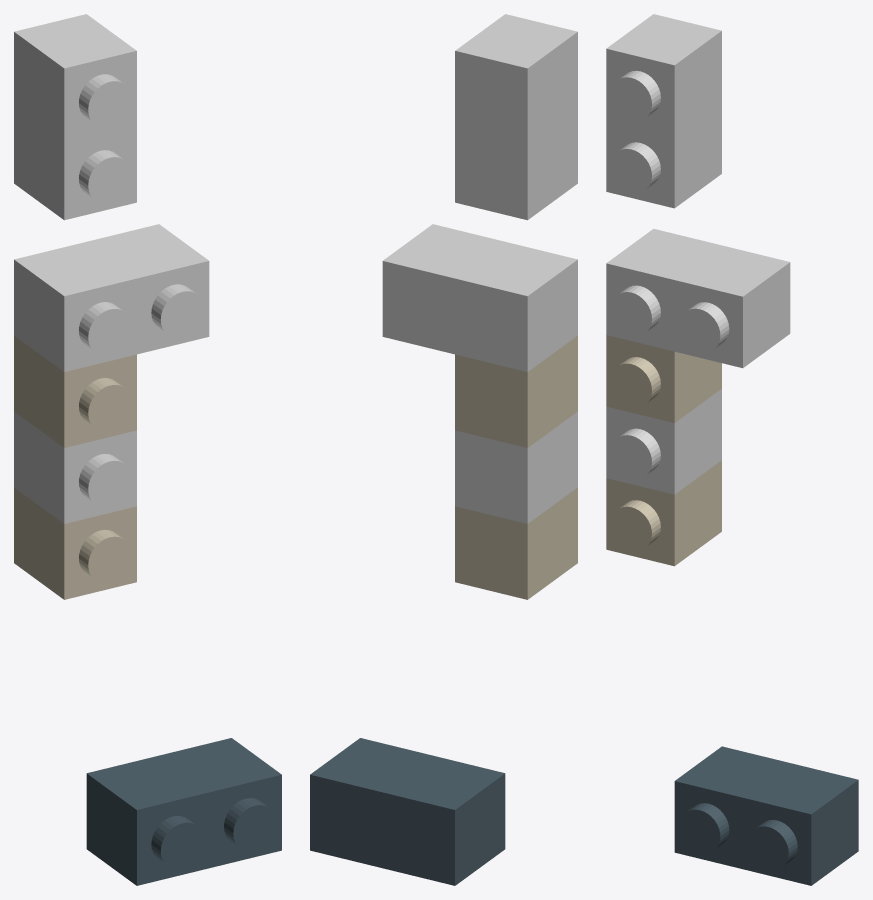
Rendered from current.glb.
3 views of the same model, side by side, from view 1: azimuth 30°, elevation 25°; view 2: azimuth 150°, elevation 25°; view 3: azimuth 330°, elevation 25° (orthographic). The views are drawn at different scales.
Visible parts, largest first — view 1: world; view 2: world; view 3: world.
Part boxes in pixels (<box>): world: <box>14,14,281,885</box>; world: <box>310,14,577,885</box>; world: <box>606,14,858,885</box>.
Size of the model in its own units: 24 by 88 by 11.4.
